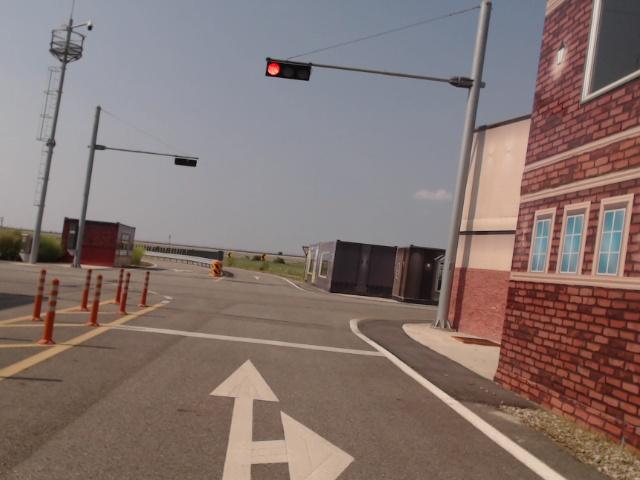red_3: (265, 56, 312, 82)
